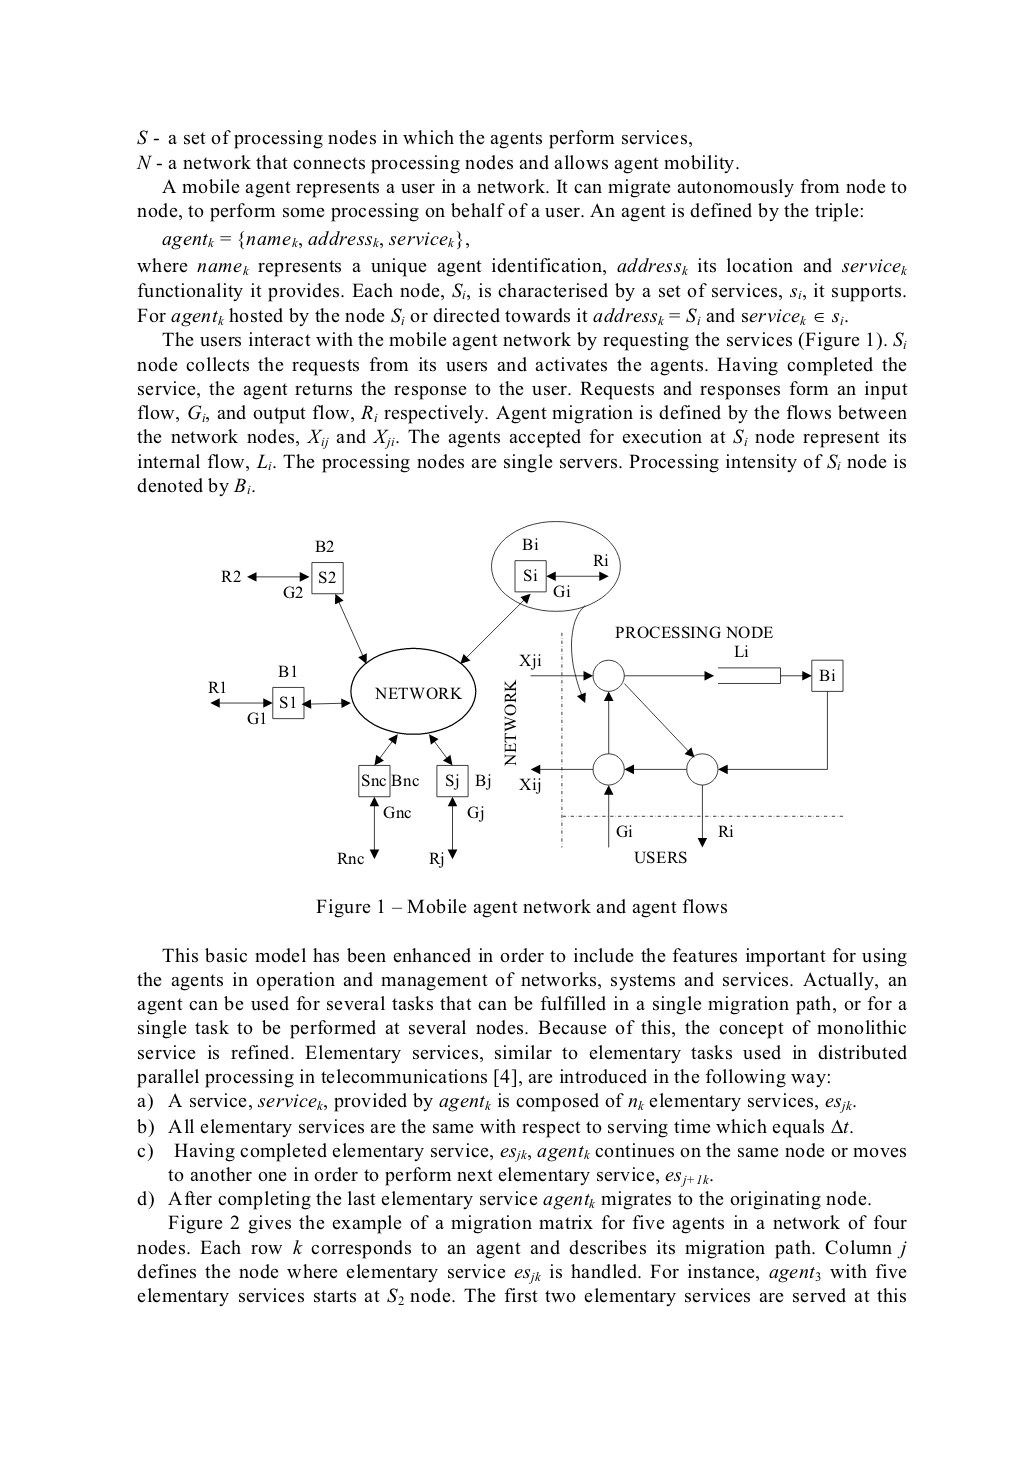figure: (208, 520, 844, 868)
